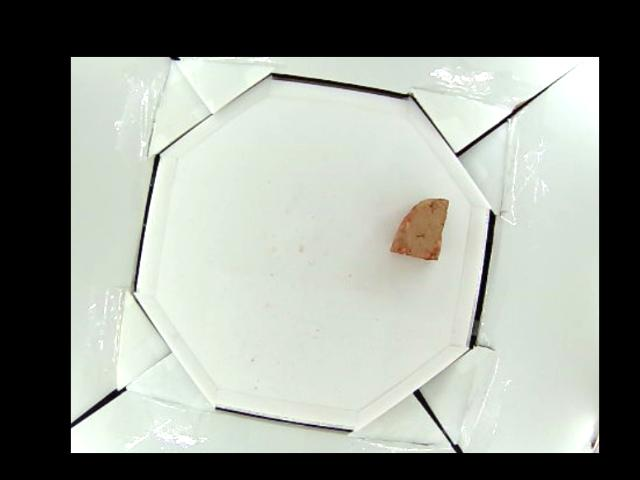Brisk: (390, 195, 452, 260)
